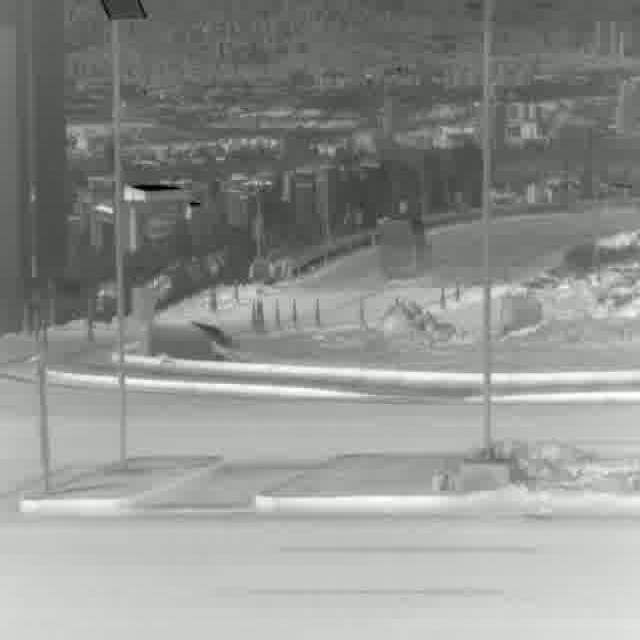Car: (382, 218, 428, 282)
